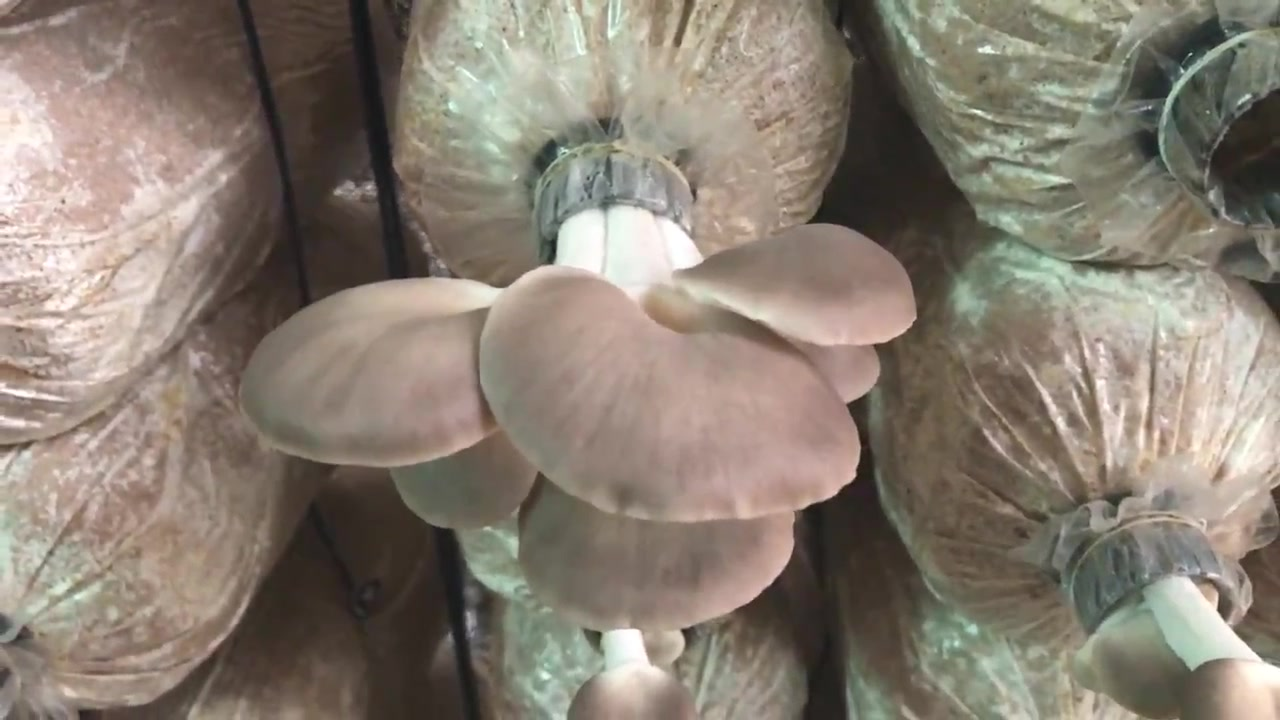nam: (241, 147, 914, 626), (1075, 519, 1280, 717), (572, 627, 695, 720)
